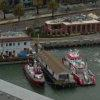Boat: (21, 49, 93, 90)
